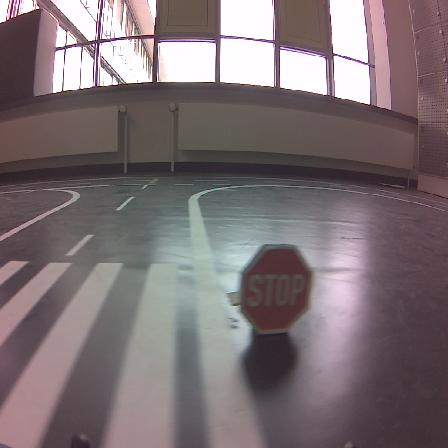STOP: (240, 245, 311, 333)
